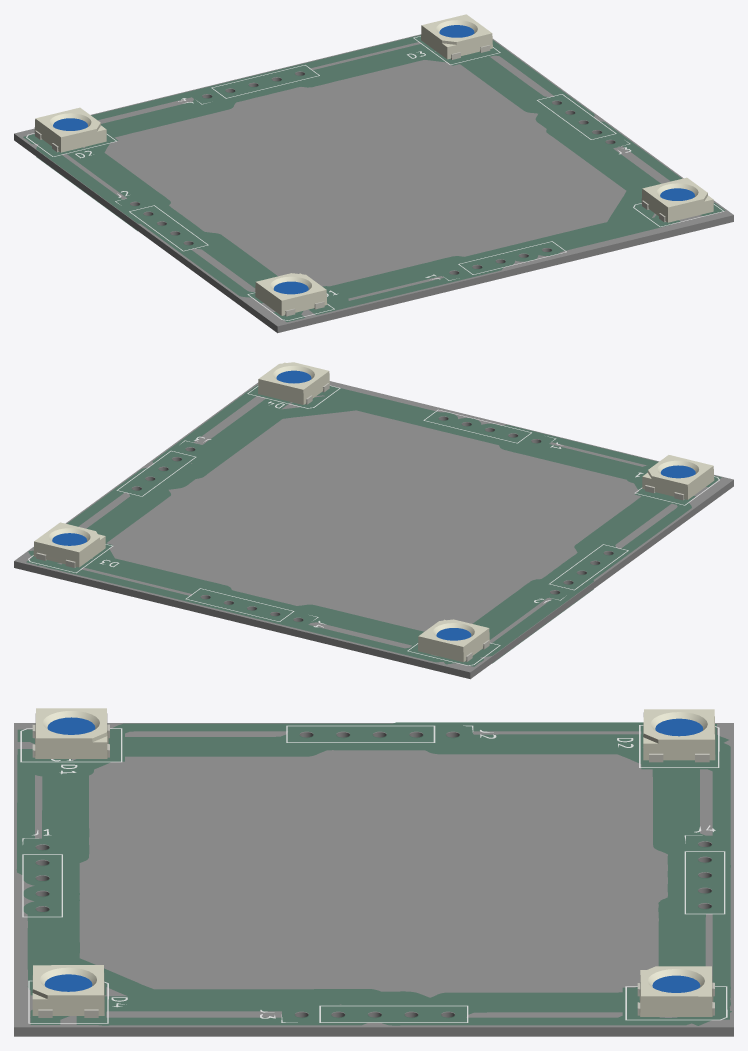
3 renders of one model, top to bottom at view 1: azimuth 30°, elevation 25°; view 2: azimuth 150°, elevation 25°; view 3: azimuth 270°, elevation 25°, orthographic. The views are drawn at different scales.
Visible parts, largest first — view 1: =>[0:1:1:5], =>[0:1:1:4], D3, D2, D4, D1, =>[0:1:1:3]; view 2: =>[0:1:1:5], =>[0:1:1:4], D1, D3, D2, D4, =>[0:1:1:3]; view 3: =>[0:1:1:5], =>[0:1:1:4], D1, D2, D3, D4, =>[0:1:1:3].
Part boxes in pixels (bbox=[...]): =>[0:1:1:5]: bbox=[14, 34, 733, 333]; =>[0:1:1:4]: bbox=[23, 35, 724, 322]; D3: bbox=[421, 14, 492, 59]; D2: bbox=[34, 107, 106, 152]; D4: bbox=[641, 177, 713, 222]; D1: bbox=[255, 273, 327, 316]; =>[0:1:1:3]: bbox=[26, 36, 724, 320]; =>[0:1:1:5]: bbox=[14, 381, 733, 679]; =>[0:1:1:4]: bbox=[26, 385, 721, 666]; D1: bbox=[642, 455, 714, 500]; D3: bbox=[33, 522, 105, 567]; D2: bbox=[418, 619, 489, 662]; D4: bbox=[258, 362, 329, 404]; =>[0:1:1:3]: bbox=[28, 385, 719, 665]; =>[0:1:1:5]: bbox=[14, 723, 733, 1036]; =>[0:1:1:4]: bbox=[16, 722, 731, 1025]; D1: bbox=[32, 708, 109, 758]; D2: bbox=[643, 709, 715, 762]; D3: bbox=[637, 966, 714, 1016]; D4: bbox=[32, 965, 104, 1017]; =>[0:1:1:3]: bbox=[20, 725, 727, 1023].
Size of the model in its own units: 0.05 by 0.00257 by 0.05.
